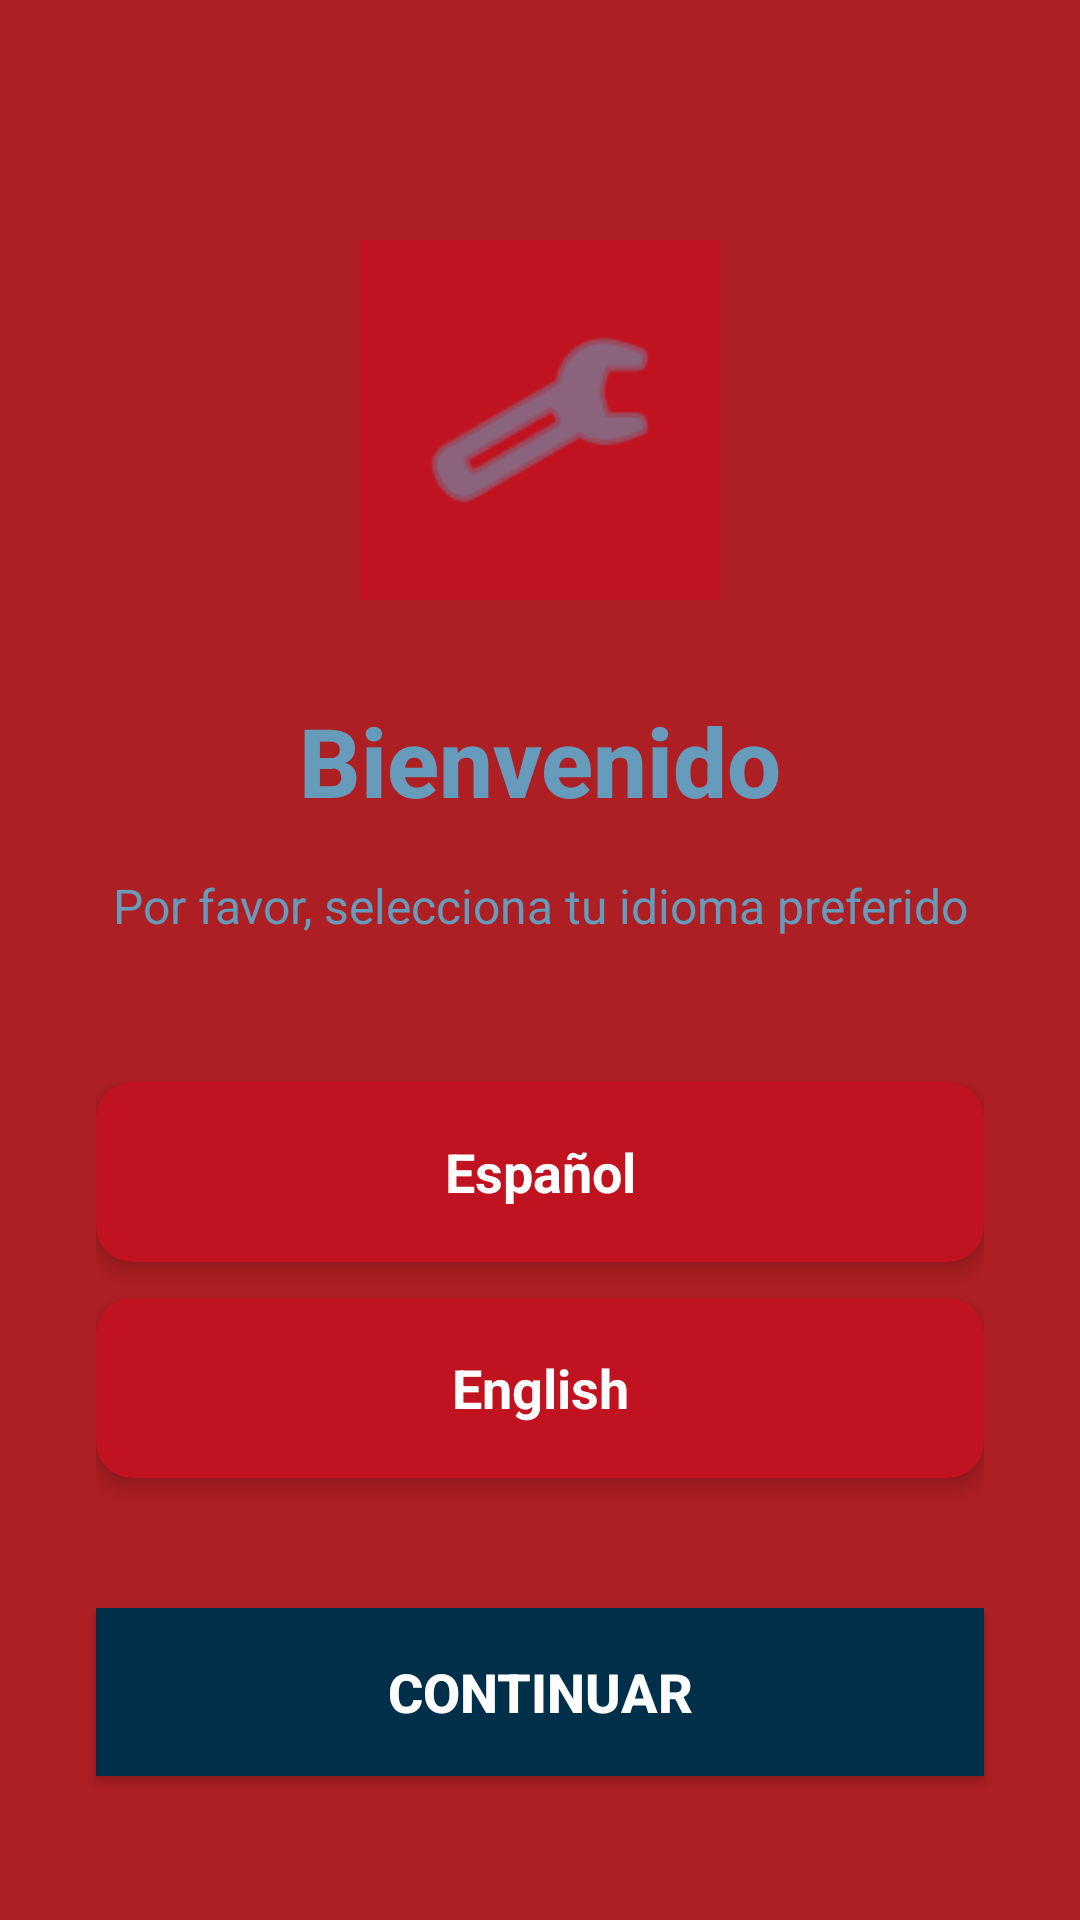

Locate icon controls on the screen. Image size 1080w x 1920h, boxes as BBox(x1, y1, x2, y2).
preferences: BBox(360, 240, 720, 600)
